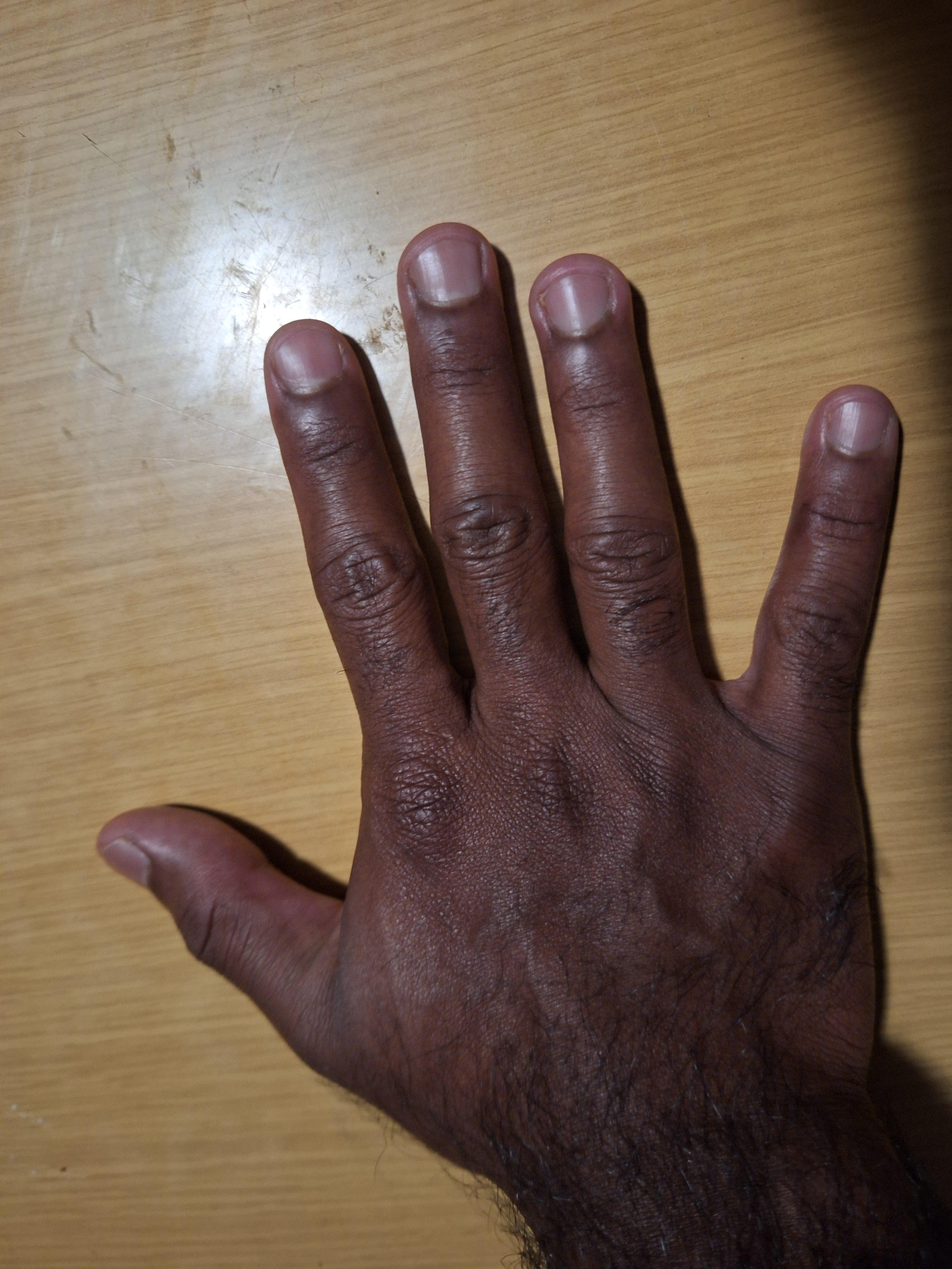Fingernail: (411, 240, 484, 302), (272, 330, 344, 391), (540, 274, 610, 333), (830, 402, 888, 452), (103, 838, 152, 887)
